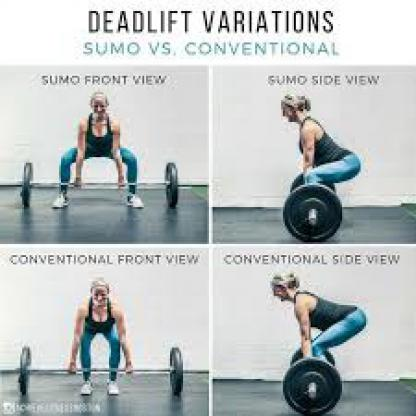Barbell: (272, 350, 348, 414), (278, 180, 346, 243)
